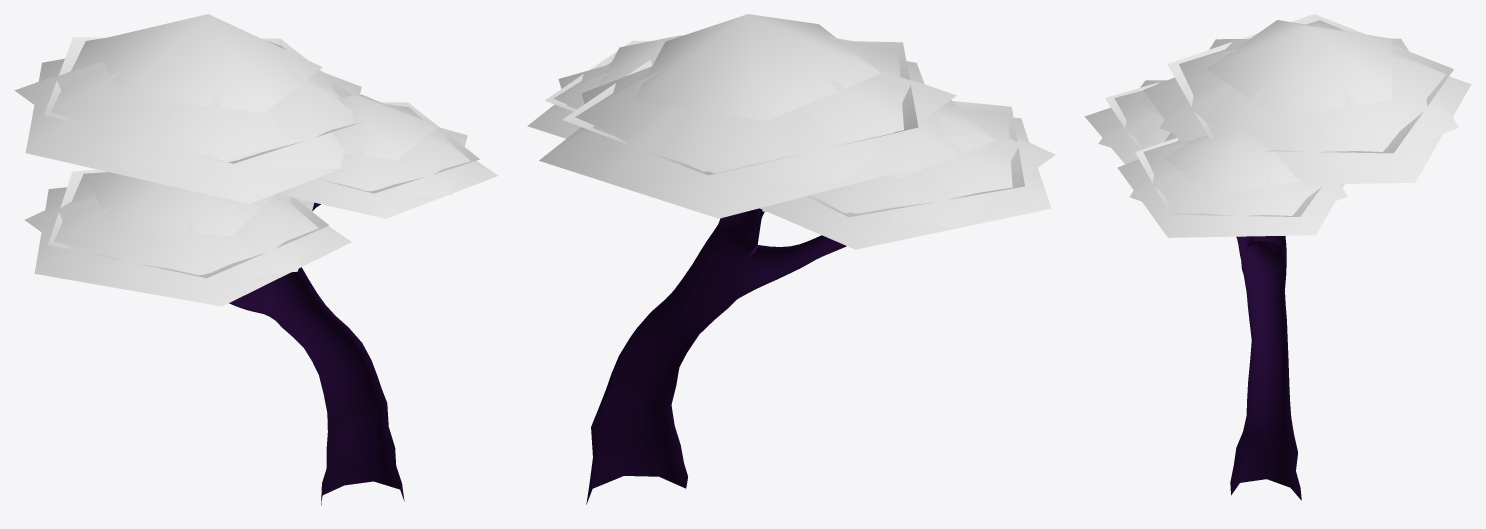
Rendered from Tree02_2.fbx.
The picture shows the model from 3 angles, left to right: view 1: azimuth 30°, elevation 25°; view 2: azimuth 150°, elevation 25°; view 3: azimuth 270°, elevation 25°; orthographic projection. The views are drawn at different scales.
Visible parts, largest first — view 1: Circle.460, Plane.178, Circle.461, Circle.462, Circle.463, Circle.451, Circle.450, Circle.453, Circle.452, Circle.455, Circle.456, Circle.458 (+4 smaller); view 2: Plane.178, Circle.460, Circle.461, Circle.463, Circle.462, Circle.451, Circle.453, Circle.452, Circle.464, Circle.450, Circle.455, Circle.454 (+2 smaller); view 3: Circle.460, Plane.178, Circle.461, Circle.462, Circle.455, Circle.463, Circle.456, Circle.457, Circle.458, Circle.464, Circle.451, Circle.452 (+3 smaller).
Boxes of the visible parts, left/top/right/bottom form: Circle.460: left=92, top=14, right=322, bottom=112; Plane.178: left=229, top=202, right=404, bottom=505; Circle.461: left=51, top=38, right=353, bottom=160; Circle.462: left=14, top=61, right=361, bottom=170; Circle.463: left=25, top=58, right=332, bottom=203; Circle.451: left=54, top=172, right=318, bottom=275; Circle.450: left=87, top=173, right=275, bottom=235; Circle.453: left=34, top=187, right=351, bottom=306; Circle.452: left=25, top=194, right=313, bottom=287; Circle.455: left=330, top=94, right=438, bottom=159; Circle.456: left=324, top=103, right=470, bottom=191; Circle.458: left=277, top=160, right=498, bottom=218; Plane.178: left=586, top=208, right=846, bottom=504; Circle.460: left=633, top=14, right=881, bottom=120; Circle.461: left=575, top=36, right=903, bottom=171; Circle.463: left=539, top=61, right=952, bottom=218; Circle.462: left=581, top=66, right=956, bottom=182; Circle.451: left=811, top=105, right=1012, bottom=213; Circle.453: left=760, top=117, right=1051, bottom=249; Circle.452: left=762, top=132, right=1055, bottom=227; Circle.464: left=562, top=41, right=918, bottom=175; Circle.450: left=888, top=100, right=994, bottom=177; Circle.455: left=598, top=35, right=683, bottom=86; Circle.454: left=806, top=101, right=1024, bottom=217; Circle.460: left=1207, top=20, right=1392, bottom=118; Plane.178: left=1230, top=236, right=1301, bottom=500; Circle.461: left=1179, top=20, right=1445, bottom=151; Circle.462: left=1159, top=38, right=1458, bottom=182; Circle.455: left=1164, top=131, right=1298, bottom=194; Circle.463: left=1143, top=76, right=1471, bottom=184; Circle.456: left=1143, top=140, right=1311, bottom=215; Circle.457: left=1129, top=132, right=1347, bottom=236; Circle.458: left=1117, top=159, right=1344, bottom=237; Circle.464: left=1167, top=14, right=1453, bottom=153; Circle.451: left=1114, top=90, right=1169, bottom=149; Circle.452: left=1098, top=80, right=1166, bottom=155.
Size of the model in its own units: 17.99 by 19.31 by 16.11.
